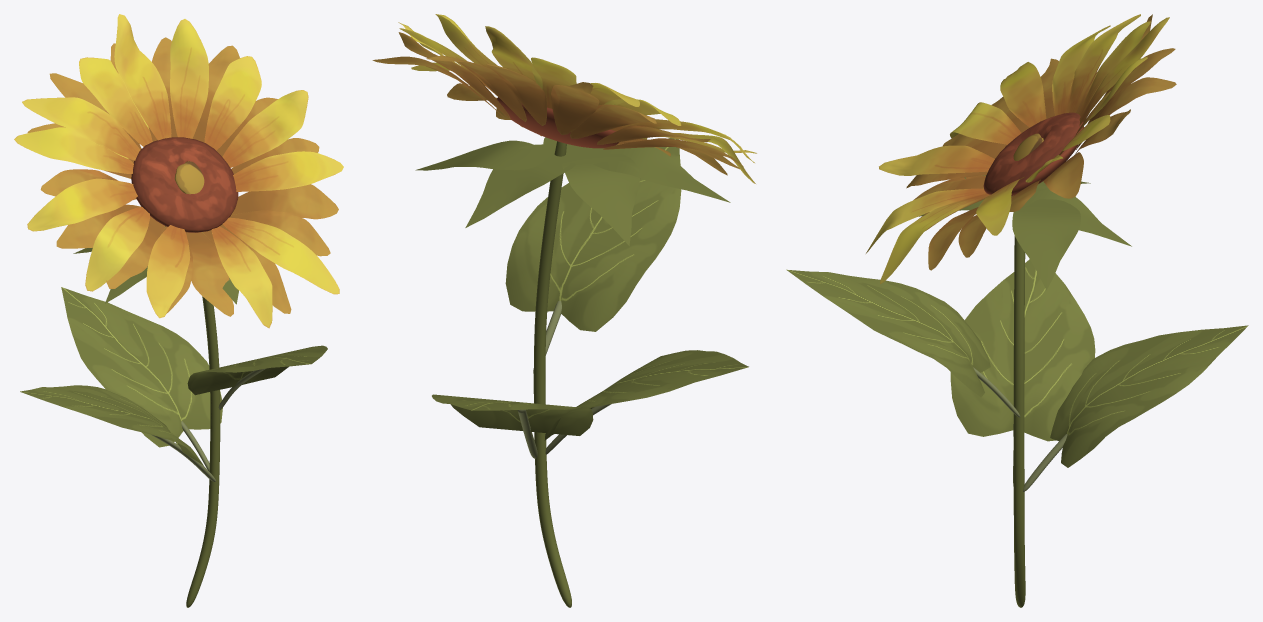
The model's file is sunflowr.glb.
3 views of the same model, side by side, from view 1: azimuth 30°, elevation 25°; view 2: azimuth 150°, elevation 25°; view 3: azimuth 270°, elevation 25° (orthographic). The views are drawn at different scales.
Visible parts, largest first — view 1: Plane.018, Plane.019, Plane.001, Sphere.010, Plane.020, Cube.005, Plane.007, Sphere.011, Plane.017; view 2: Plane.007, Plane.017, Plane.019, Plane.018, Cube.005, Plane.020, Plane.001, Sphere.010; view 3: Plane.018, Plane.020, Plane.001, Plane.007, Plane.019, Plane.017, Cube.005, Sphere.010.
Part boxes in pixels (x1,y1,x2,y2): Plane.018: (14, 14, 343, 328); Plane.019: (27, 37, 338, 316); Plane.001: (61, 287, 222, 471); Sphere.010: (131, 137, 238, 232); Plane.020: (20, 385, 215, 481); Cube.005: (186, 296, 220, 607); Plane.007: (187, 345, 327, 409); Sphere.011: (174, 161, 204, 194); Plane.017: (73, 226, 238, 304); Plane.007: (505, 138, 681, 373); Plane.017: (415, 137, 730, 245); Plane.019: (372, 32, 743, 175); Plane.018: (398, 14, 756, 183); Cube.005: (533, 141, 571, 607); Plane.020: (544, 350, 748, 454); Plane.001: (432, 394, 593, 458); Sphere.010: (497, 97, 619, 148); Plane.018: (866, 14, 1169, 283); Plane.020: (950, 259, 1095, 486); Plane.001: (1023, 325, 1248, 491); Plane.007: (786, 269, 1020, 417); Plane.019: (906, 14, 1176, 270); Plane.017: (919, 175, 1131, 290); Cube.005: (1013, 236, 1025, 607); Sphere.010: (983, 112, 1084, 195).
Size of the model in its own units: 3.1 by 5.26 by 3.74.
Materials: 20 (19 with a texture image).
